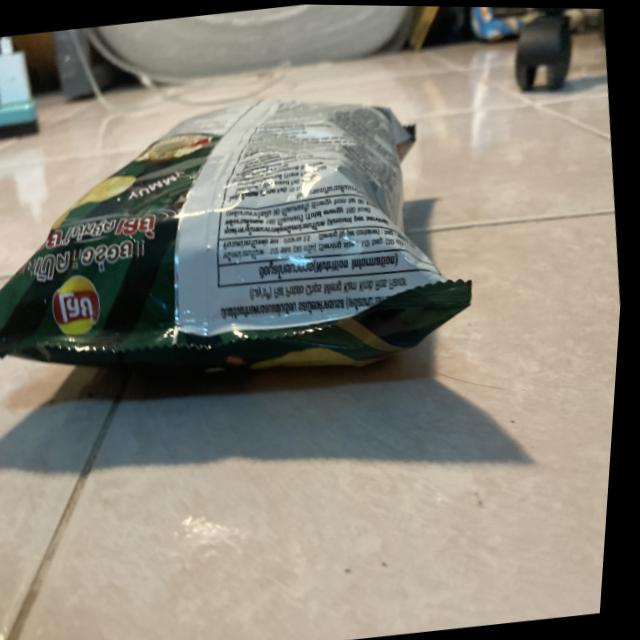Laygreen: (0, 73, 456, 424)
